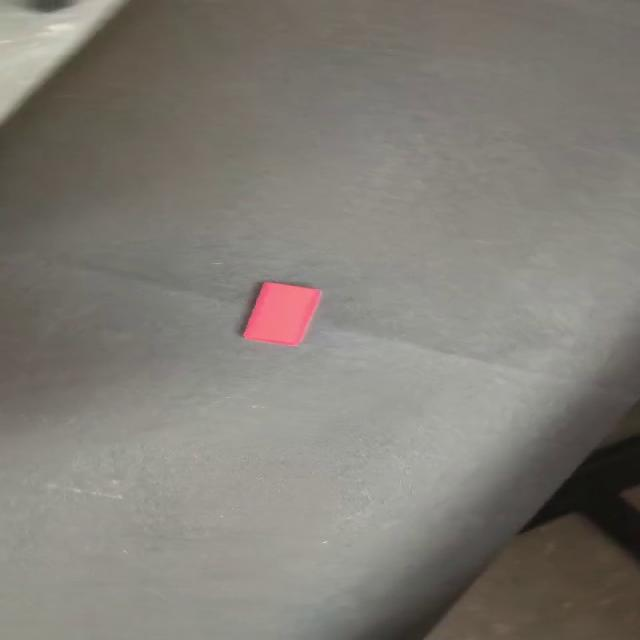red block: (240, 280, 321, 346)
